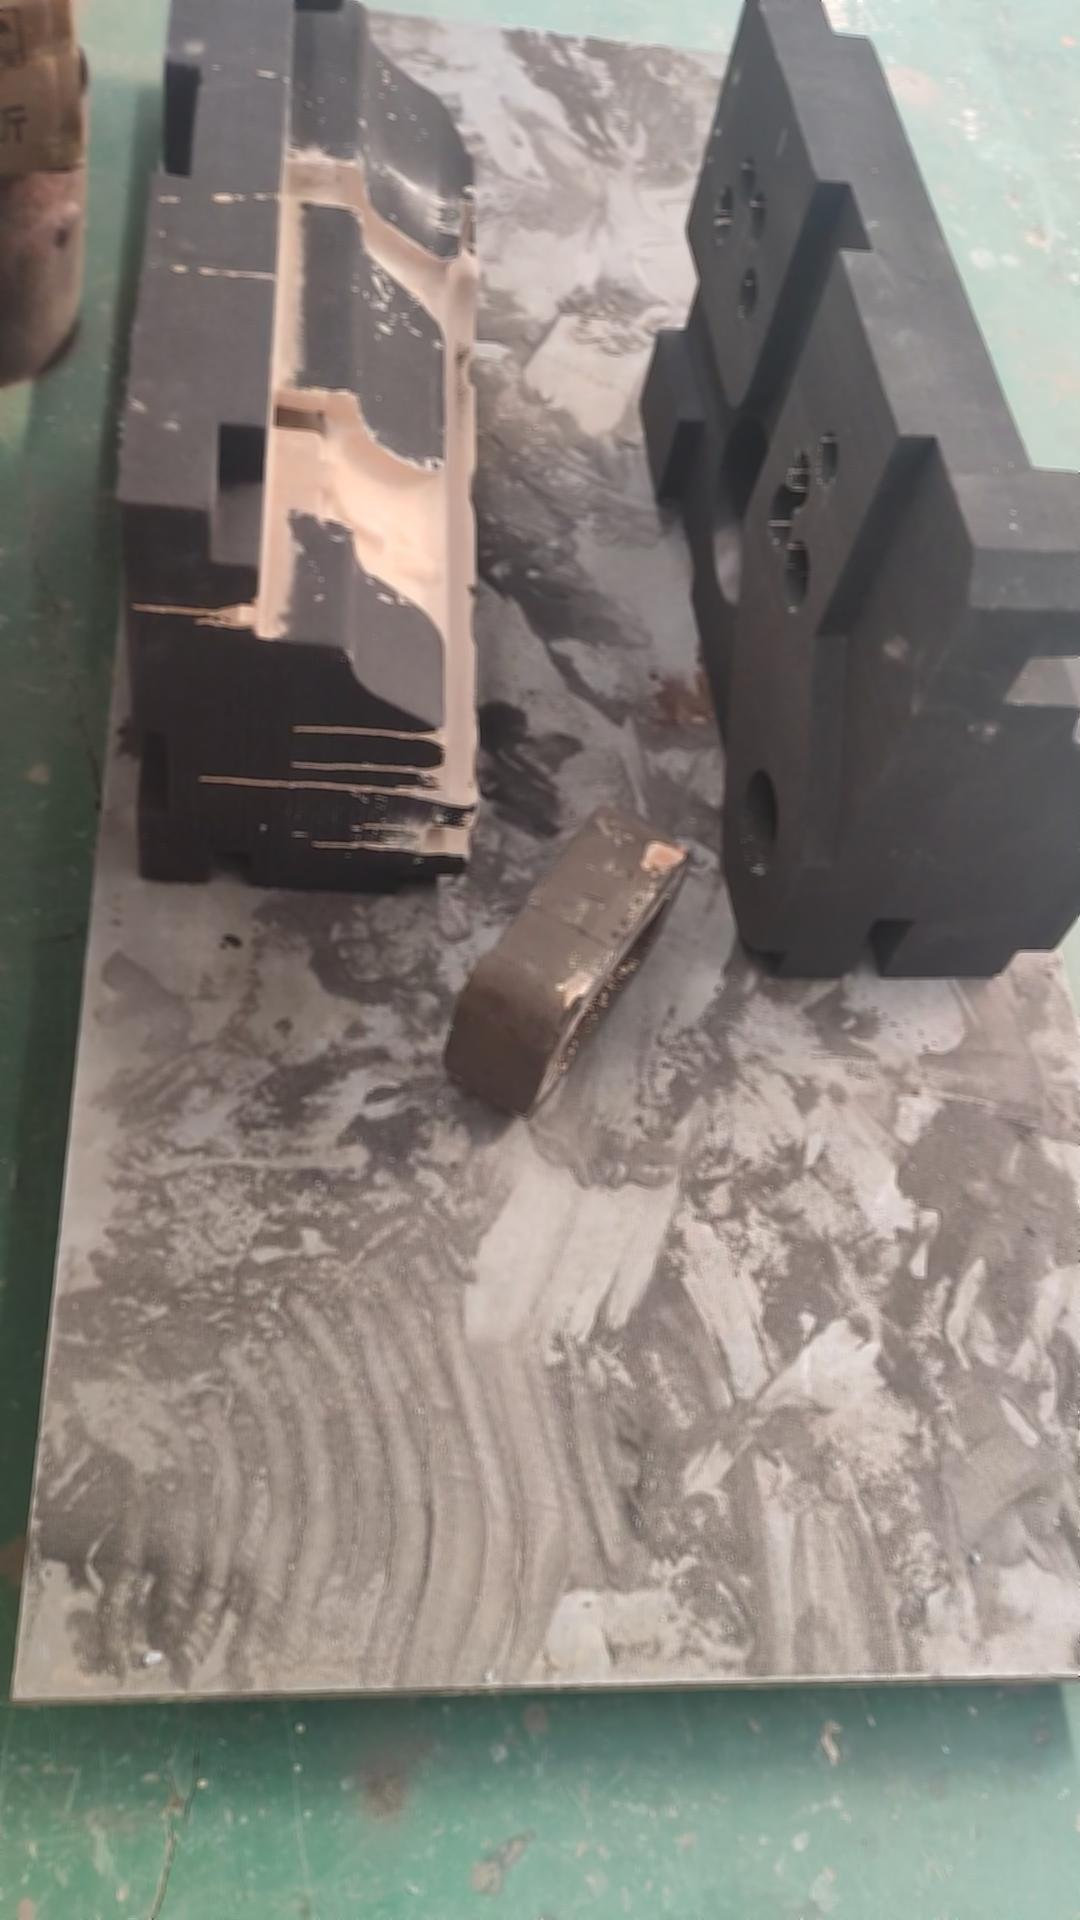pouring hole: (742, 770, 779, 870)
